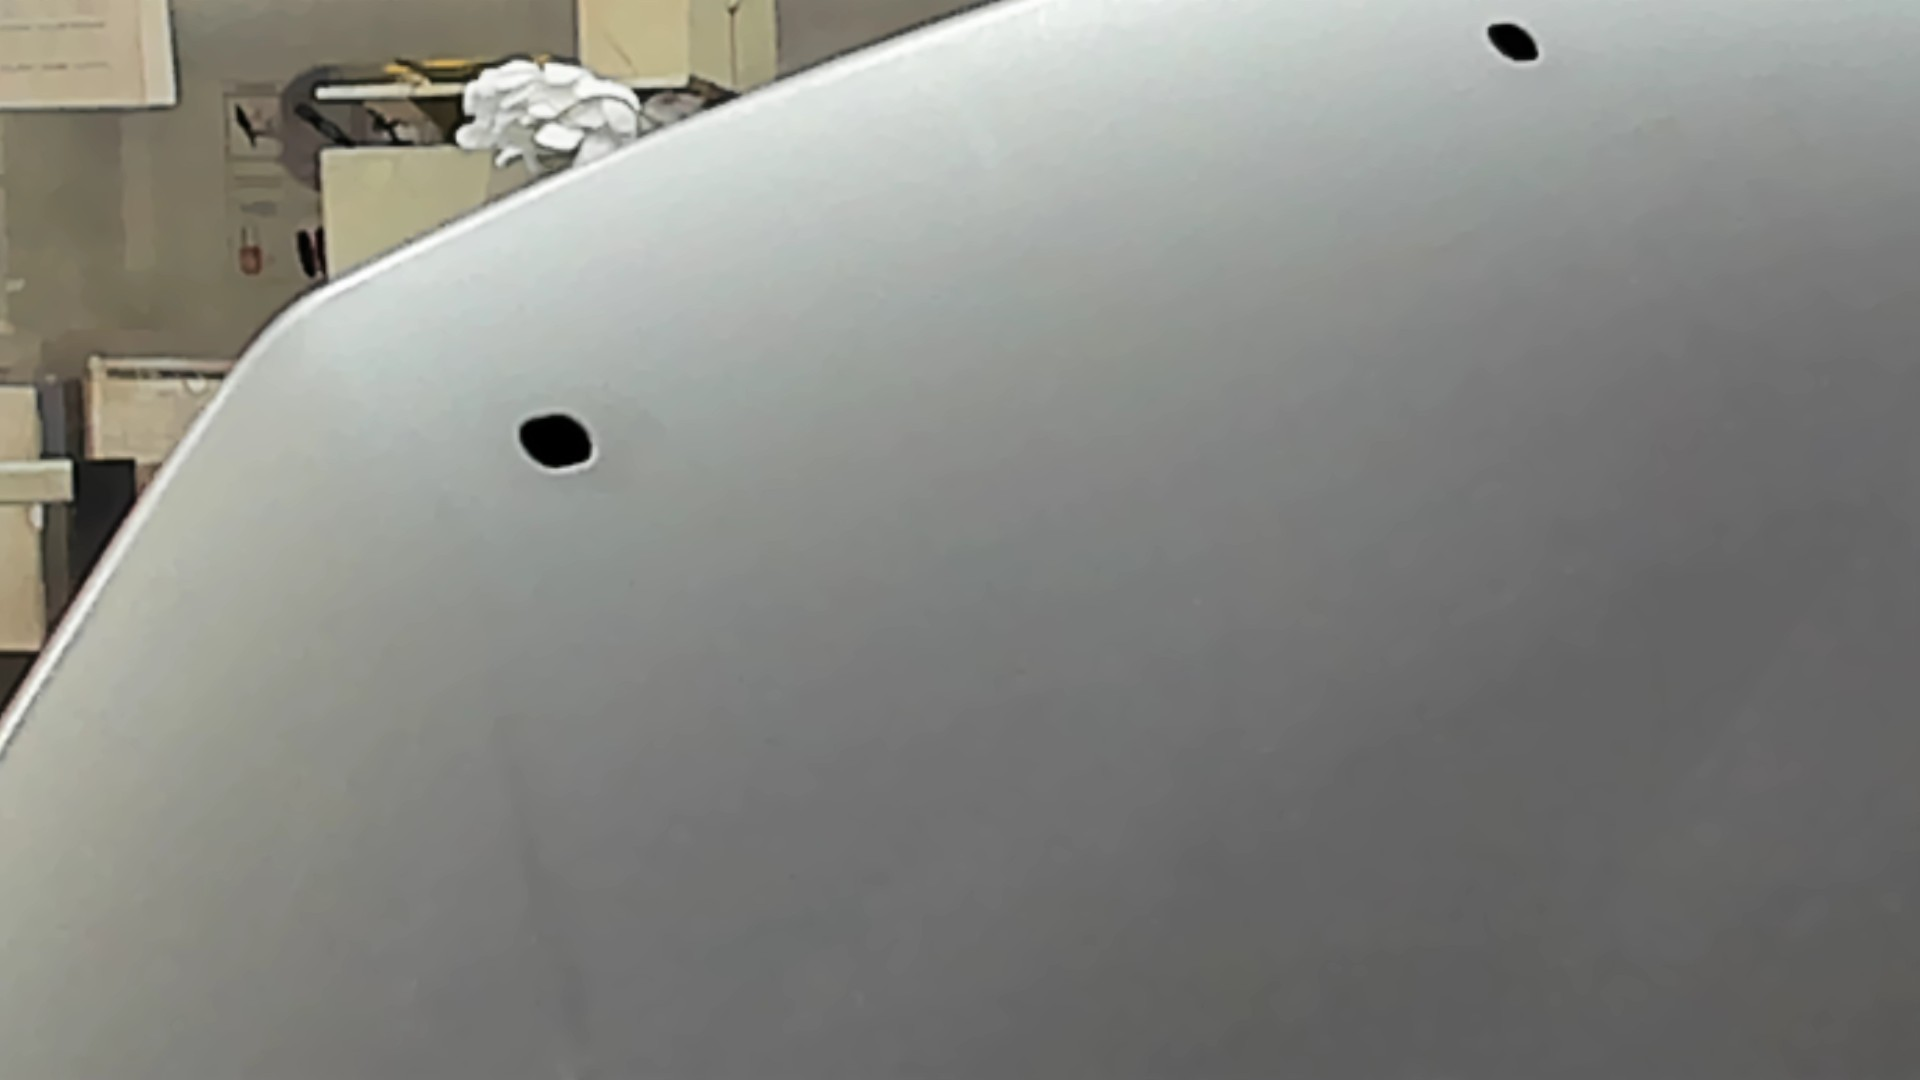Agujero: (509, 404, 607, 480), (1480, 16, 1548, 73)
